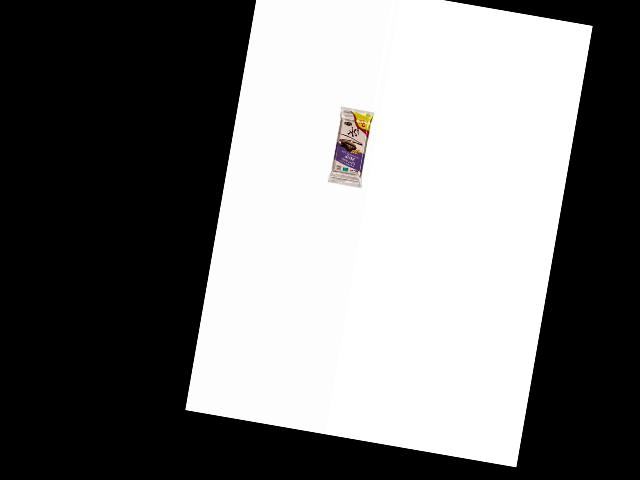chocolate: (324, 103, 376, 189)
